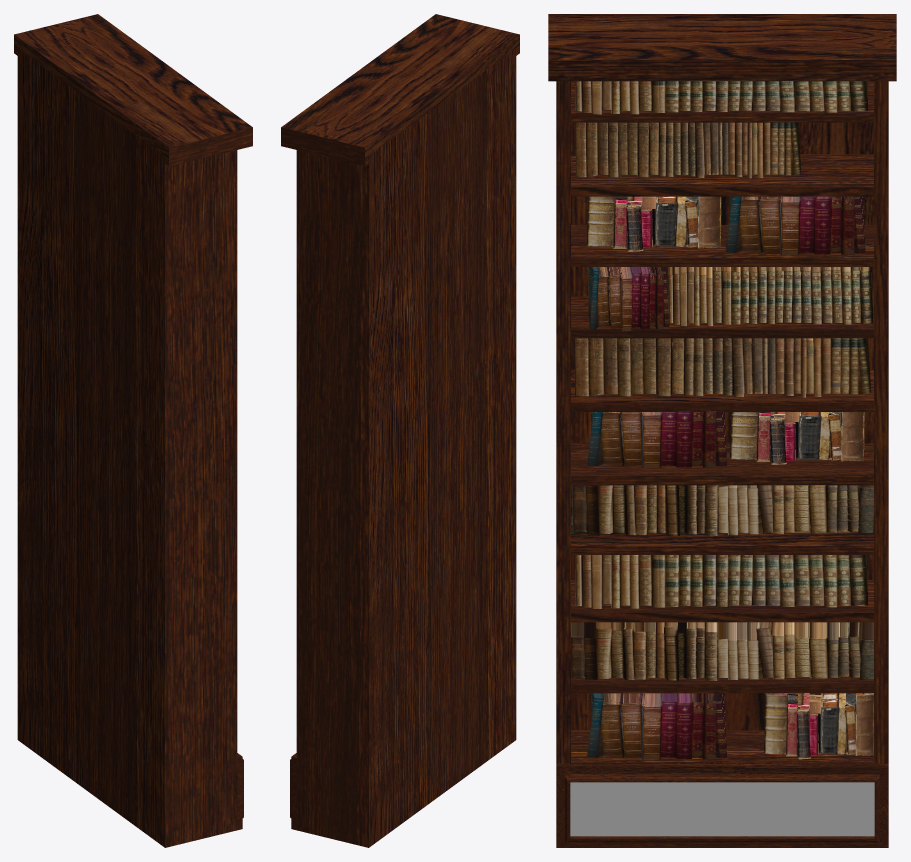
The model's file is Props_BookshelfTALL_2.fbx.
The picture shows the model from 3 angles, left to right: view 1: azimuth 30°, elevation 25°; view 2: azimuth 150°, elevation 25°; view 3: azimuth 270°, elevation 25°; orthographic projection. The views are drawn at different scales.
Parts seen in each view (by area): view 1: BookShelftall_2; view 2: BookShelftall_2; view 3: BookShelftall_2, tx_books_1.004, tx_books_6.003, tx_books_5.004, tx_books_1.003, tx_books_6.004, tx_books_5.006, tx_books_5.005, tx_books_4.009, tx_books_4.007, tx_books_4.006, tx_books_2.005 (+3 smaller).
Boxes of the visible parts, left/top/right/bottom form: BookShelftall_2: left=14, top=14, right=252, bottom=847; BookShelftall_2: left=281, top=14, right=519, bottom=847; BookShelftall_2: left=548, top=14, right=896, bottom=847; tx_books_1.004: left=571, top=622, right=873, bottom=680; tx_books_6.003: left=575, top=338, right=871, bottom=397; tx_books_5.004: left=575, top=555, right=867, bottom=608; tx_books_1.003: left=571, top=485, right=873, bottom=536; tx_books_6.004: left=575, top=122, right=800, bottom=178; tx_books_5.006: left=668, top=267, right=872, bottom=326; tx_books_5.005: left=575, top=81, right=868, bottom=114; tx_books_4.009: left=587, top=693, right=726, bottom=759; tx_books_4.007: left=725, top=196, right=865, bottom=254; tx_books_4.006: left=587, top=410, right=726, bottom=467; tx_books_2.005: left=586, top=196, right=721, bottom=251.
Bounding box in the file's own units: 65.81 × 526 × 210.
